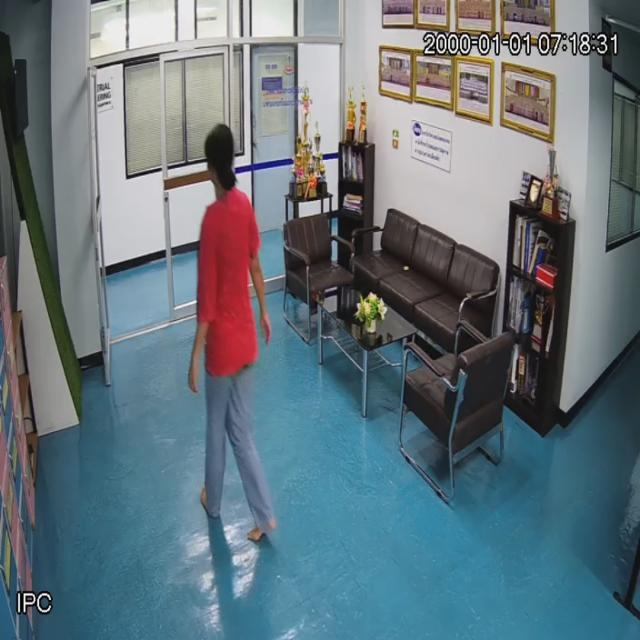normal: (190, 124, 270, 538)
